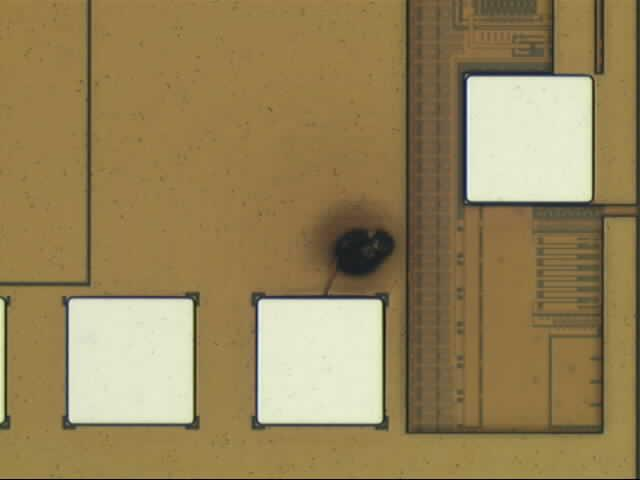PIQ PARTICLE: (310, 196, 414, 300)
